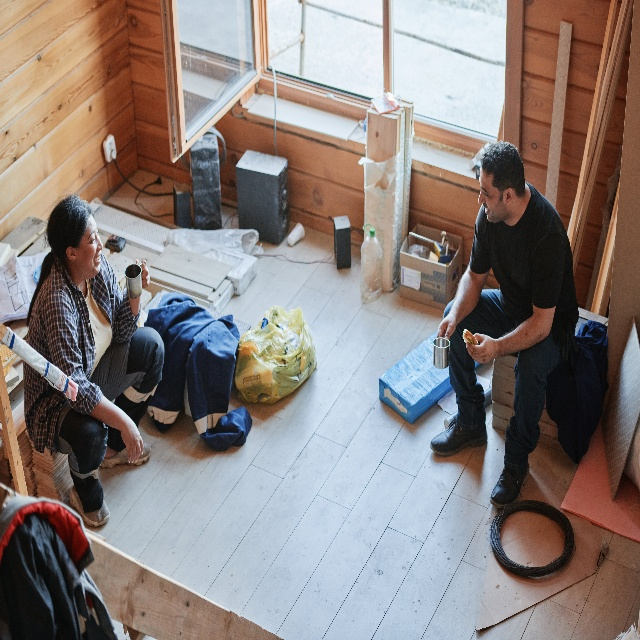Guantes: (553, 319, 570, 360)
Sin_guantes: (120, 414, 143, 463), (465, 332, 496, 364), (437, 313, 456, 341), (135, 259, 150, 288)
